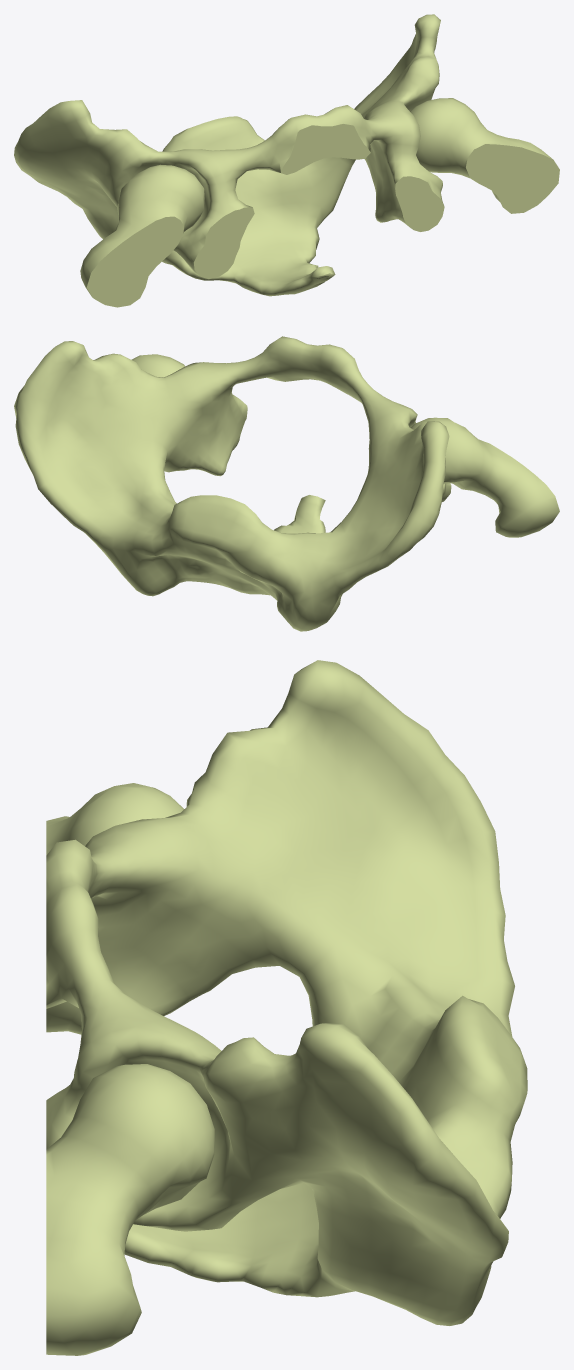
The model's file is pelvic.FBX.
The picture shows the model from 3 angles, top to bottom: view 1: azimuth 30°, elevation 25°; view 2: azimuth 150°, elevation 25°; view 3: azimuth 270°, elevation 25°; orthographic projection. The views are drawn at different scales.
Parts seen in each view (by area): view 1: pelvic; view 2: pelvic; view 3: pelvic.
Boxes of the visible parts, x1=… form: pelvic: x1=14, y1=14, x2=559, y2=307; pelvic: x1=14, y1=336, x2=559, y2=631; pelvic: x1=46, y1=660, x2=527, y2=1355.
Bounding box in the file's own units: 329 × 144 × 145.
